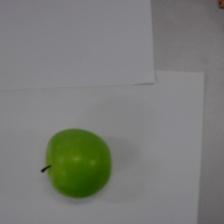green: (41, 129, 111, 198)
